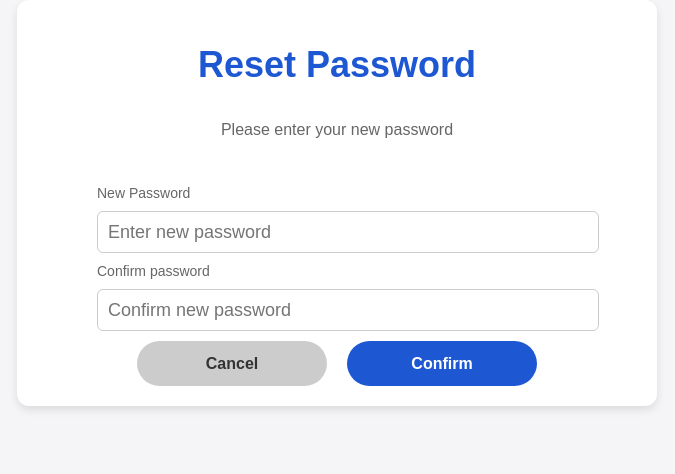
Test: resets the password and navigates home after success
Type "Validpass1!" into the password field labelled "New Password" at x=348, y=232, box [97,211,599,253]
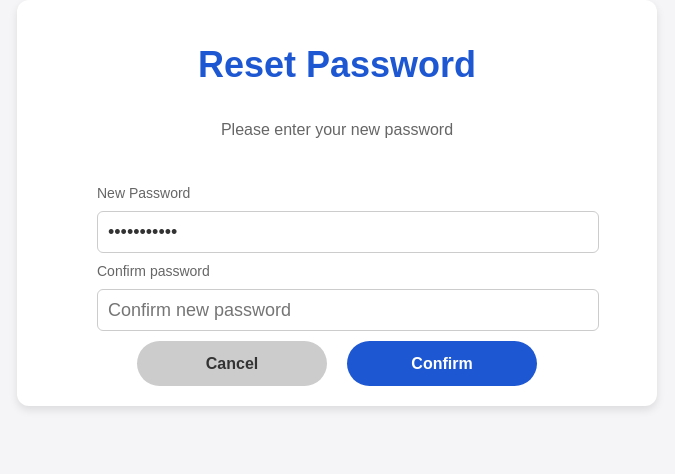
Type "Validpass1!" into the password field labelled "Confirm password" at x=348, y=310, box [97,289,599,331]
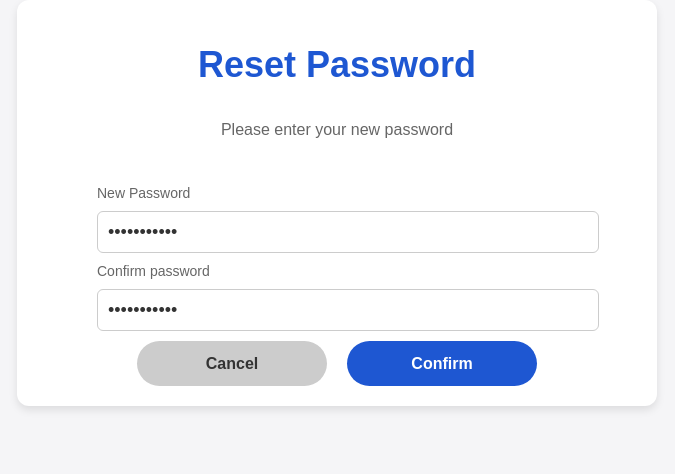
Click the button "Confirm" at x=442, y=364, box [347,341,537,386]
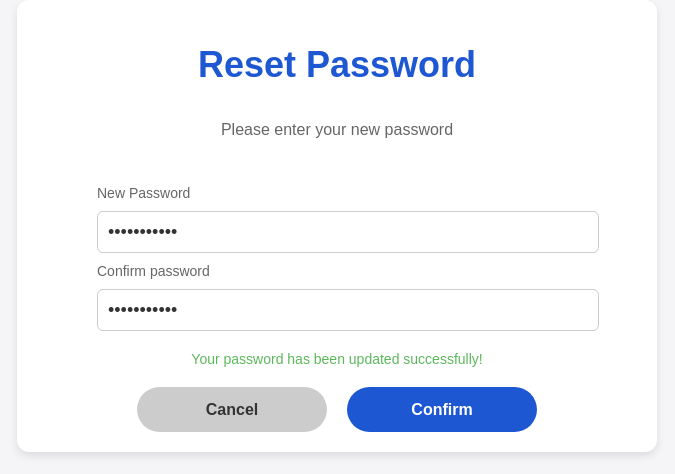
Result: the text "Your password has been updated successfully!" is shown at [191,351,483,367]
